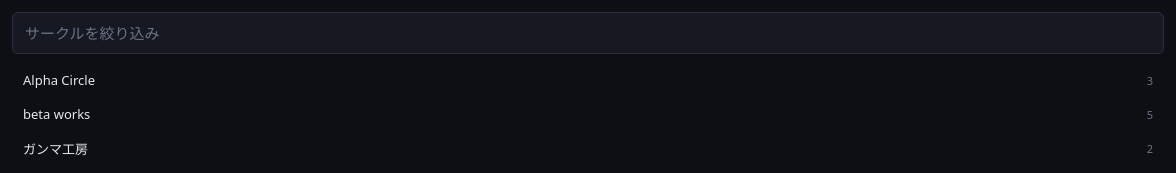
Test: CircleFacetPanel クライアントサイド絞り込み › 大文字小文字を無視してマッチする
Expected: the text "Alpha Circle" is shown, left=23, top=71, right=95, bottom=89
In the search field with placeholder "サークルを絞り込み": (588, 33) left=12, top=12, right=1164, bottom=54, type "ALPHA"
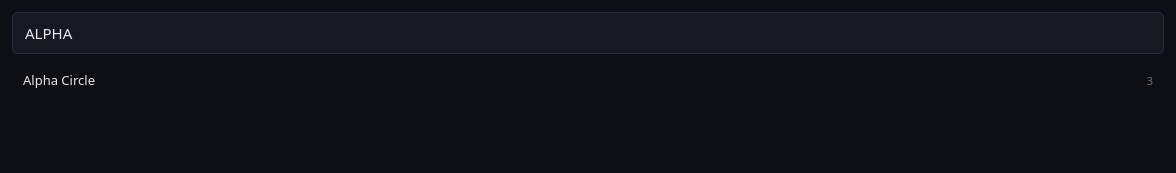
Expected: the text "Alpha Circle" is shown, left=23, top=71, right=95, bottom=89
Now the button "beta works" is gone
